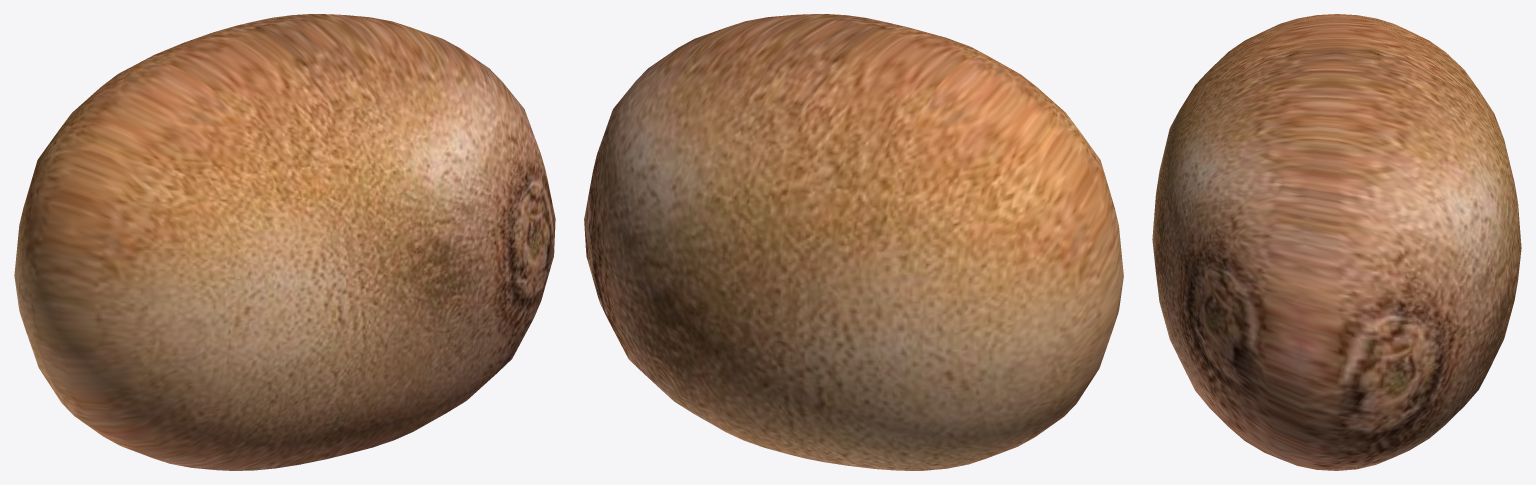
File: kiwi.fbx
3 views of the same model, side by side, from view 1: azimuth 30°, elevation 25°; view 2: azimuth 150°, elevation 25°; view 3: azimuth 270°, elevation 25° (orthographic). The views are drawn at different scales.
Parts seen in each view (by area): view 1: Sphere; view 2: Sphere; view 3: Sphere.
Part boxes in pixels (<box>): Sphere: <box>14,14,555,470</box>; Sphere: <box>584,14,1123,470</box>; Sphere: <box>1152,14,1521,470</box>.
Bounding box in the file's own units: 288 × 225 × 200.
Materials: 1 (1 with a texture image).
